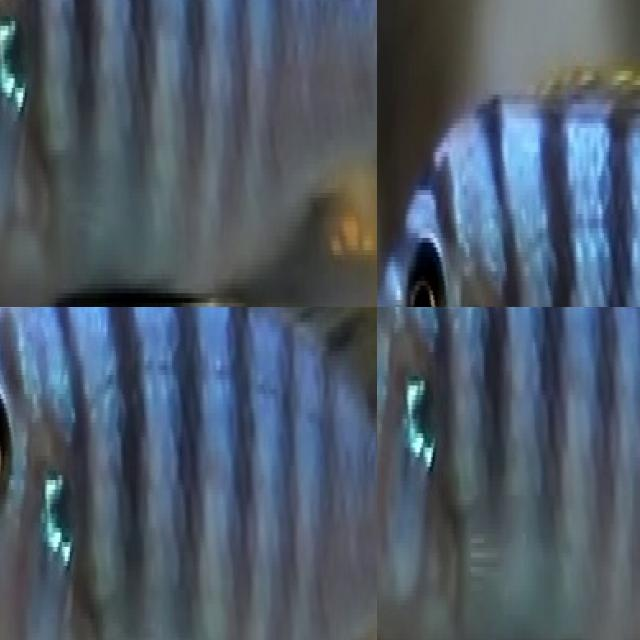fish: (0, 307, 377, 640), (0, 0, 377, 307), (377, 307, 640, 640)
